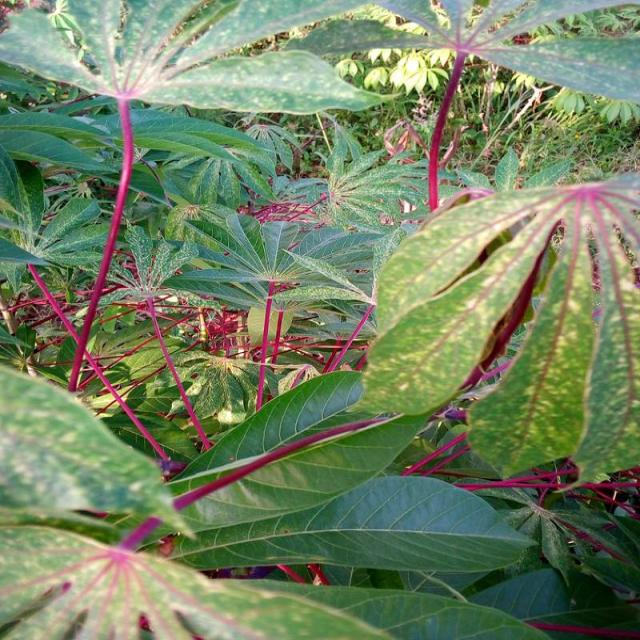cassava leaf: (358, 170, 638, 490)
